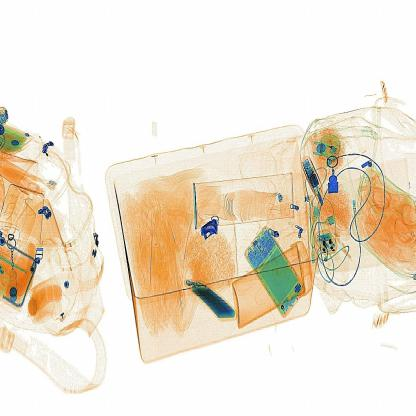knife: (198, 212, 225, 244)
